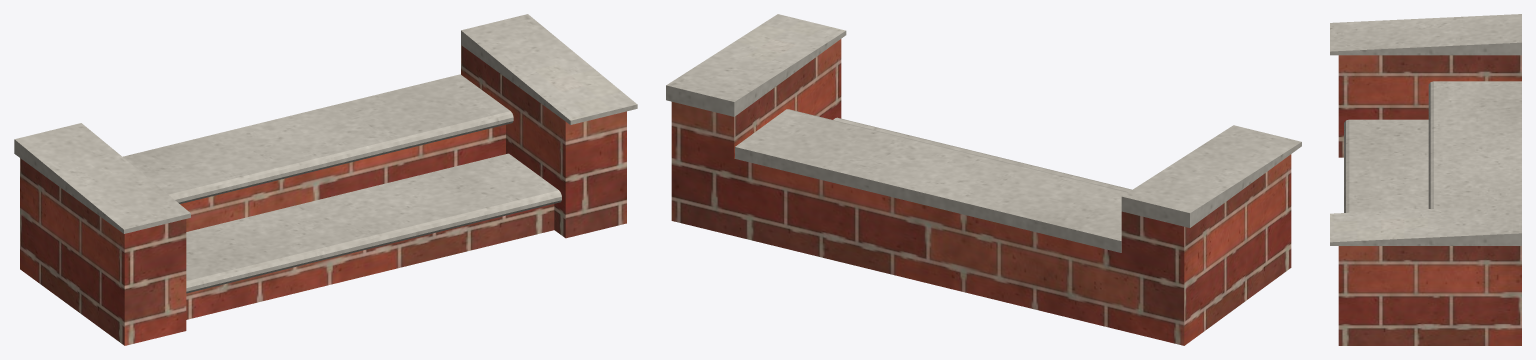
File: brick_steps.glb
3 renders of one model, left to right at view 1: azimuth 30°, elevation 25°; view 2: azimuth 150°, elevation 25°; view 3: azimuth 270°, elevation 25°, orthographic. The views are drawn at different scales.
Parts seen in each view (by area): view 1: brick_steps_cap, brick_steps_brick; view 2: brick_steps_brick, brick_steps_cap; view 3: brick_steps_cap, brick_steps_brick.
Boxes of the visible parts, x1,y1,x2,y2 form: brick_steps_cap: (14,14,637,293); brick_steps_brick: (20,45,626,345); brick_steps_brick: (671,39,1291,345); brick_steps_cap: (666,14,1301,252); brick_steps_cap: (1330,14,1521,245); brick_steps_brick: (1338,55,1521,345).
Bounding box in the file's own units: 1.84 × 0.45 × 0.68.
2 materials, 2 textured.
